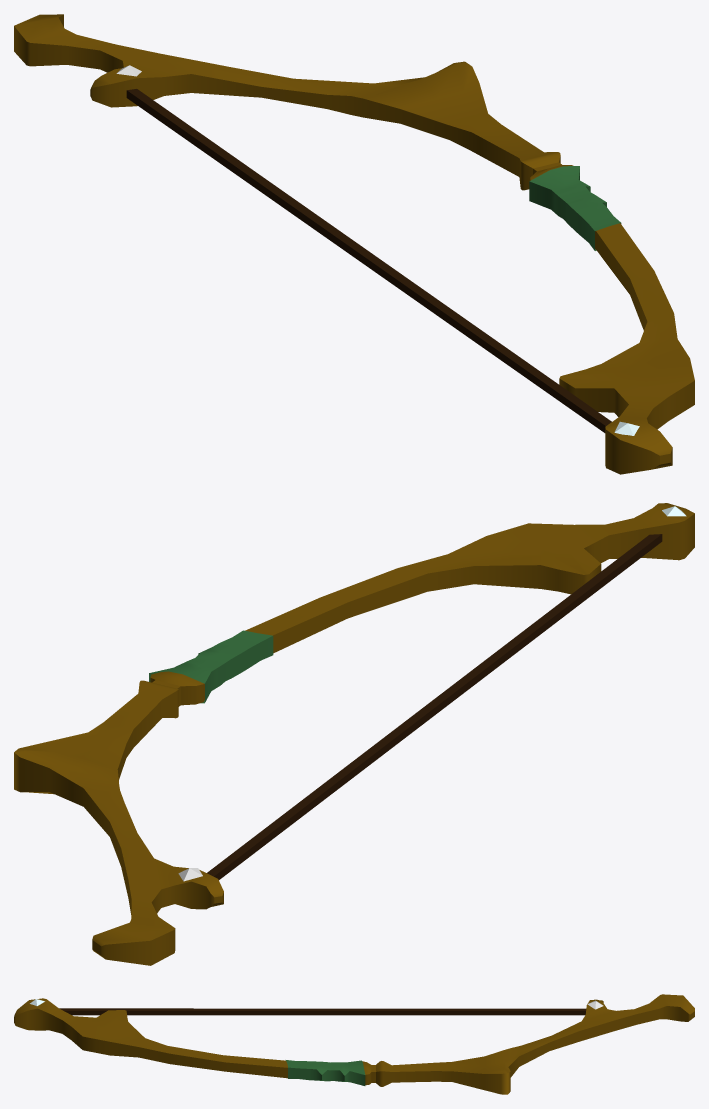
Rendered from Arco.fbx.
3 views of the same model, one above another, from view 1: azimuth 30°, elevation 25°; view 2: azimuth 150°, elevation 25°; view 3: azimuth 270°, elevation 25° (orthographic). The views are drawn at different scales.
Visible parts, largest first — view 1: Estructura, Cuerda, Detalles; view 2: Estructura, Cuerda, Detalles; view 3: Estructura, Cuerda, Detalles.
Boxes of the visible parts, <box> form: Estructura: <box>14,14,694,474</box>; Cuerda: <box>126,89,611,432</box>; Detalles: <box>529,166,621,250</box>; Estructura: <box>14,503,694,965</box>; Cuerda: <box>207,534,662,879</box>; Detalles: <box>149,630,273,703</box>; Estructura: <box>14,994,694,1094</box>; Cuerda: <box>59,1008,586,1015</box>; Detalles: <box>285,1060,365,1085</box>.
Bounding box in the file's own units: 61.32 × 9.17 × 212.
